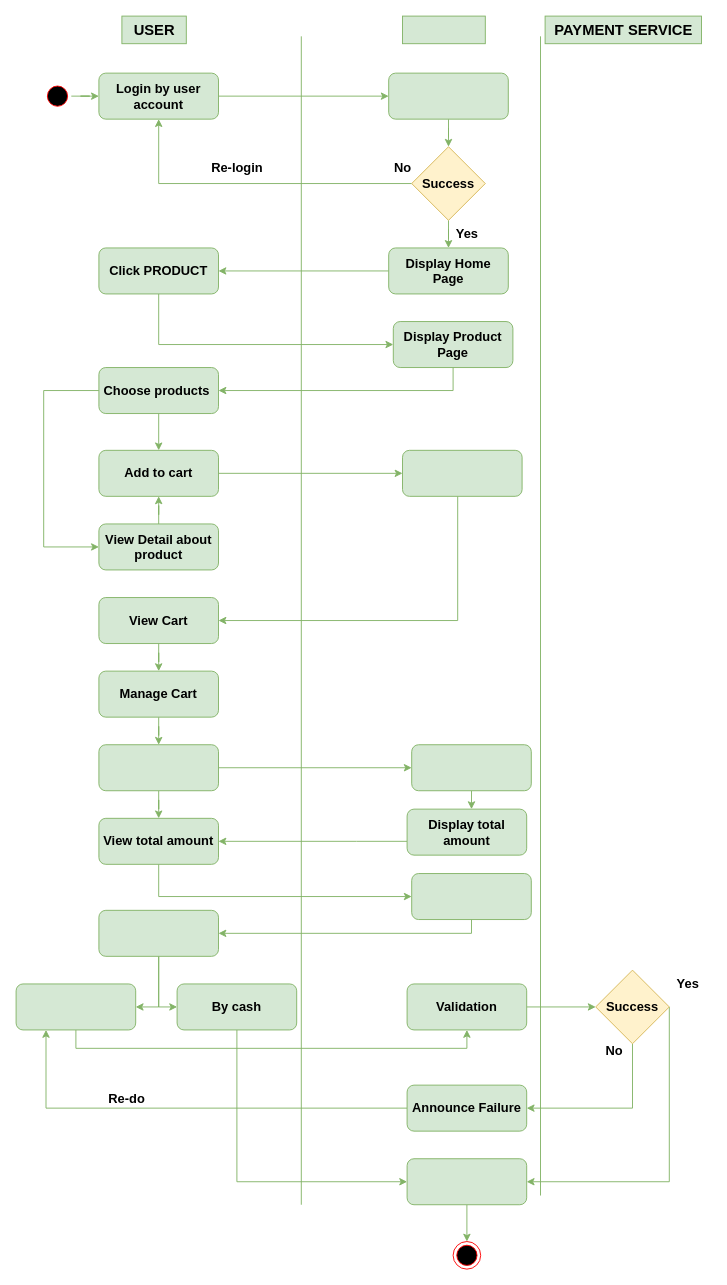
This 727x1285 diagram has some shape labels left out. Here are the shapes that lost their labels. From the top down, the centre of each, then its label:
At (x=443, y=29): "SYSTEM".
At (x=448, y=95): "Authentication".
At (x=462, y=472): "Add product to cart".
At (x=158, y=767): "Payment".
At (x=471, y=767): "Calculate total amount".
At (x=471, y=896): "Display Payment methods".
At (x=158, y=932): "Choose methods".
At (x=75, y=1006): "Wallet/Bank/Credit".
At (x=466, y=1181): "Save Payment".
